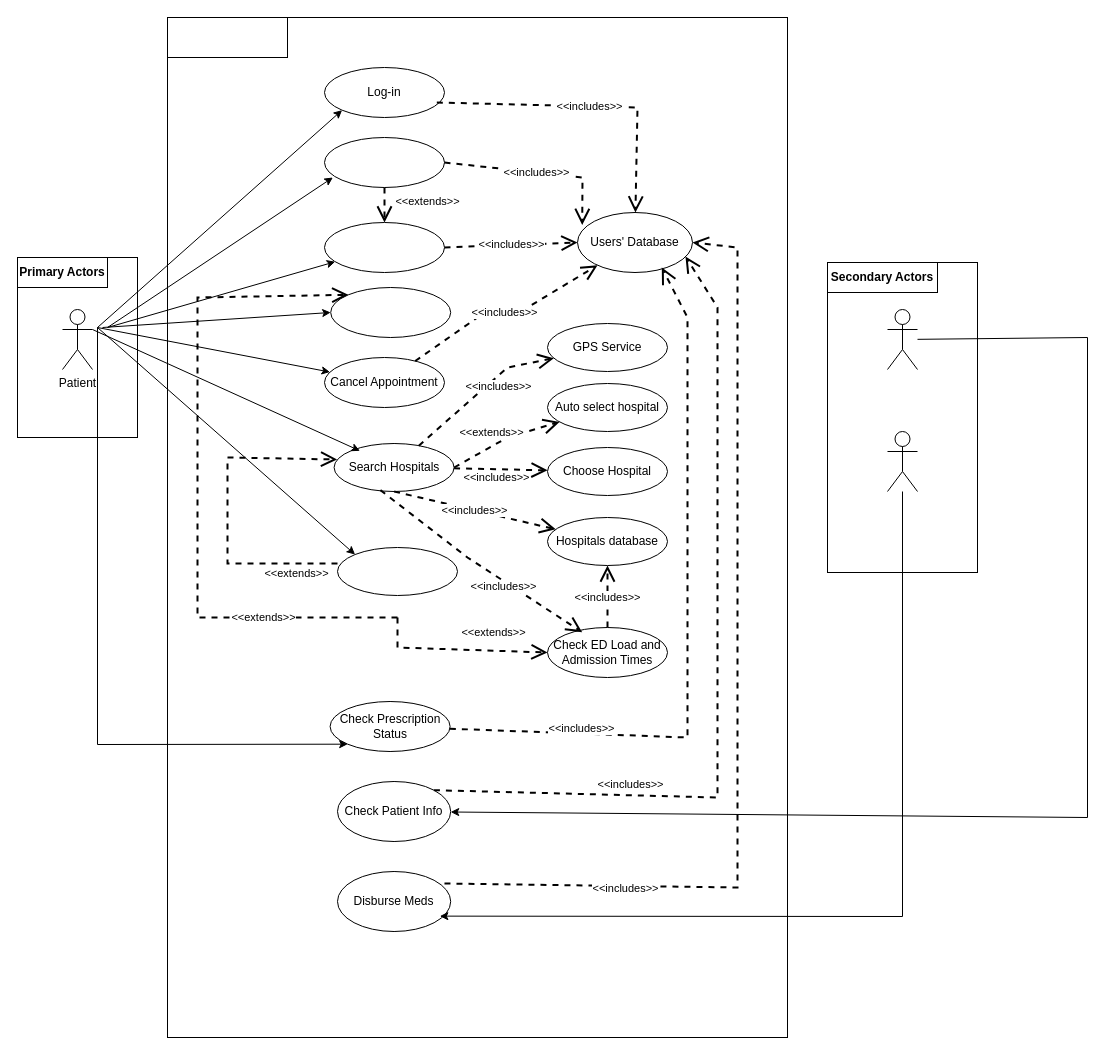
Image size: 1113x1055. Some labels were removed from this diagram. Here are the shapes that lost their labels. From the top down, the centre of each, then its label:
At (227,37): "Mister Ed".
At (384,162): "Virtual Assessment".
At (384,247): "Virtual Assessment Results".
At (390,312): "Book appointment".
At (902,339): "Clinic".
At (902,461): "Pharmacy".
At (397,571): "Call staff/Live chat".
